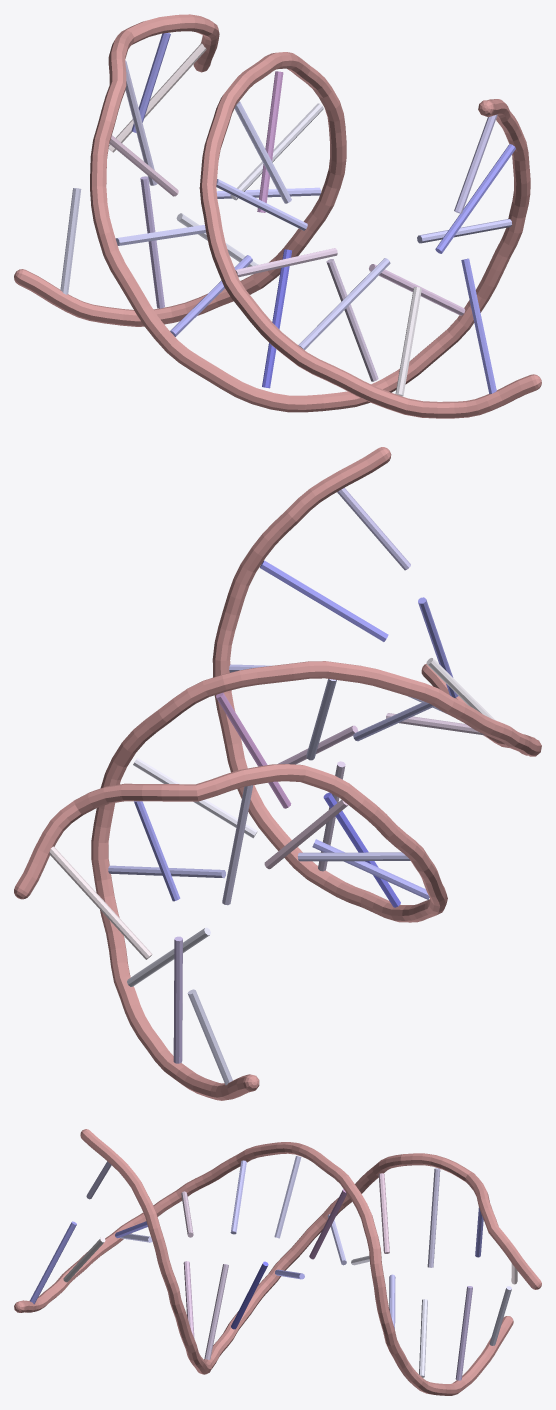
Rendered from 1bna__cartoon__b-factor.glb.
The picture shows the model from 3 angles, top to bottom: view 1: azimuth 30°, elevation 25°; view 2: azimuth 150°, elevation 25°; view 3: azimuth 270°, elevation 25°; orthographic projection. The views are drawn at different scales.
Parts seen in each view (by area): view 1: Renderer Node; view 2: Renderer Node; view 3: Renderer Node.
Boxes of the visible parts, x1=… form: Renderer Node: x1=14, y1=14, x2=541, y2=418; Renderer Node: x1=14, y1=447, x2=541, y2=1100; Renderer Node: x1=14, y1=1129, x2=541, y2=1395.
Bounding box in the file's own units: 21.36 × 25.92 × 43.47.
